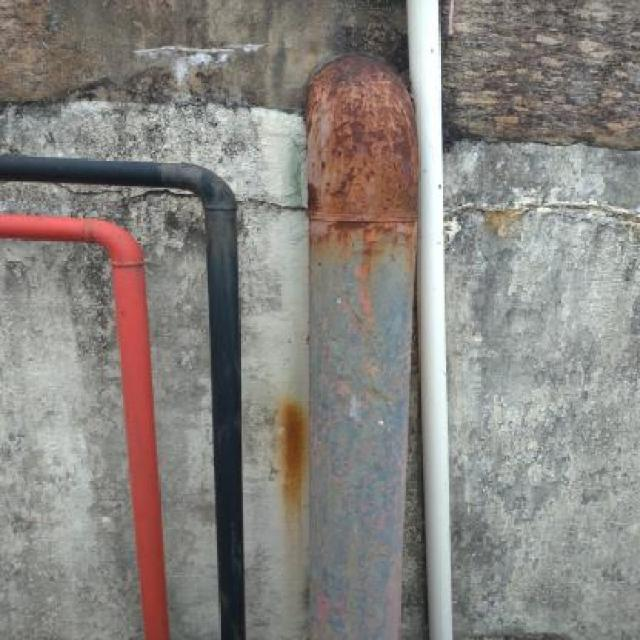gas: (2, 156, 250, 640), (1, 212, 170, 637), (306, 59, 413, 638), (402, 1, 453, 640)
